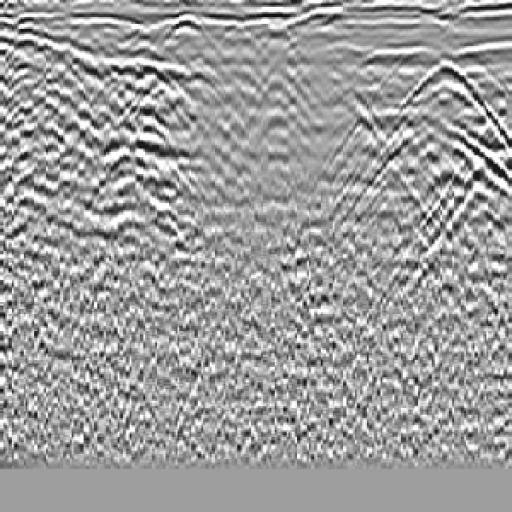non-metallic: (47, 25, 256, 242), (119, 8, 285, 241), (356, 52, 512, 270)
